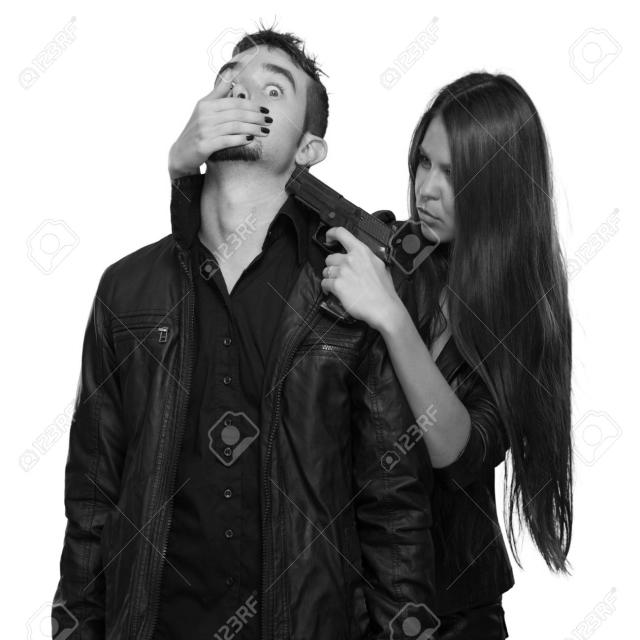gun: (280, 163, 400, 326)
